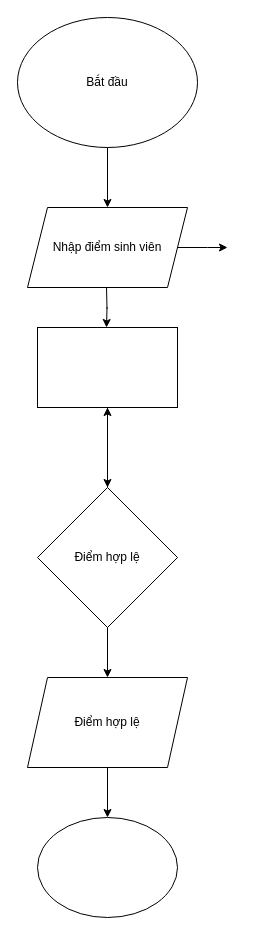
This 253x935 diagram has some shape labels left out. The box of each missing label's shape, as (x1, y1, x2, y2) in pixels:
Kết thúc: (36, 816, 178, 918)
Xử lí điểm: (36, 326, 178, 408)
